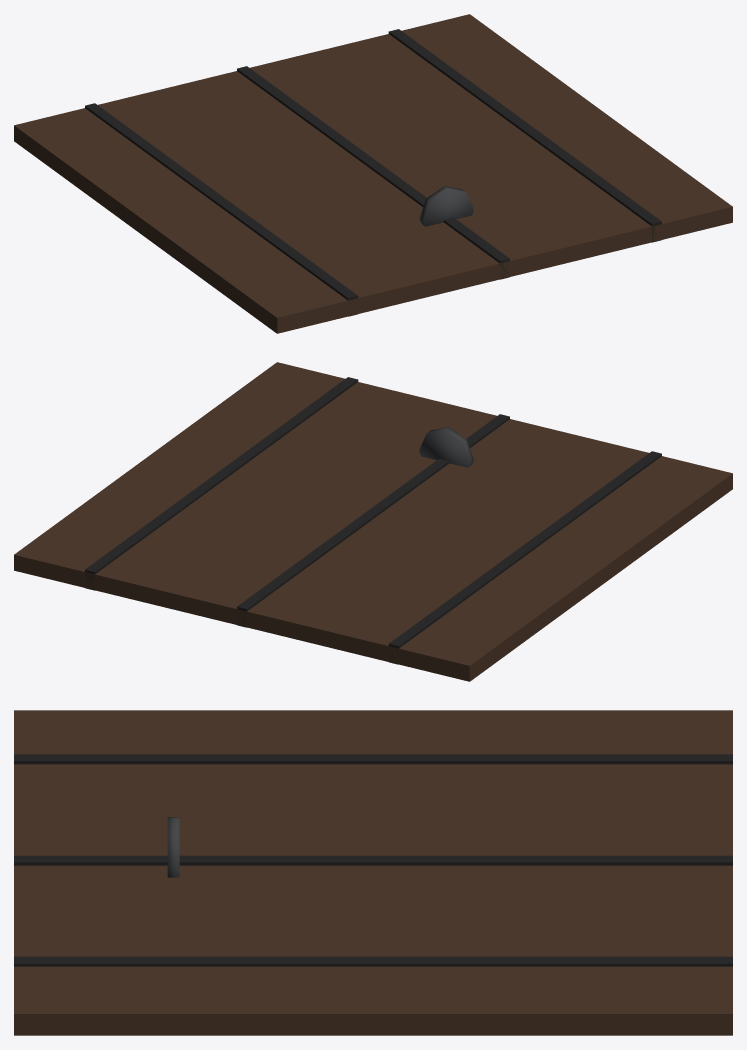
Rendered from cellar_hatch.glb.
The picture shows the model from 3 angles, top to bottom: view 1: azimuth 30°, elevation 25°; view 2: azimuth 150°, elevation 25°; view 3: azimuth 270°, elevation 25°; orthographic projection. The views are drawn at different scales.
Parts seen in each view (by area): view 1: CellarHatch; view 2: CellarHatch; view 3: CellarHatch.
Boxes of the visible parts, x1,y1,x2,y2 form: CellarHatch: (14, 14, 732, 333); CellarHatch: (14, 362, 732, 681); CellarHatch: (14, 710, 732, 1035).
Bounding box in the file's own units: 0.9 × 0.1 × 0.9.
